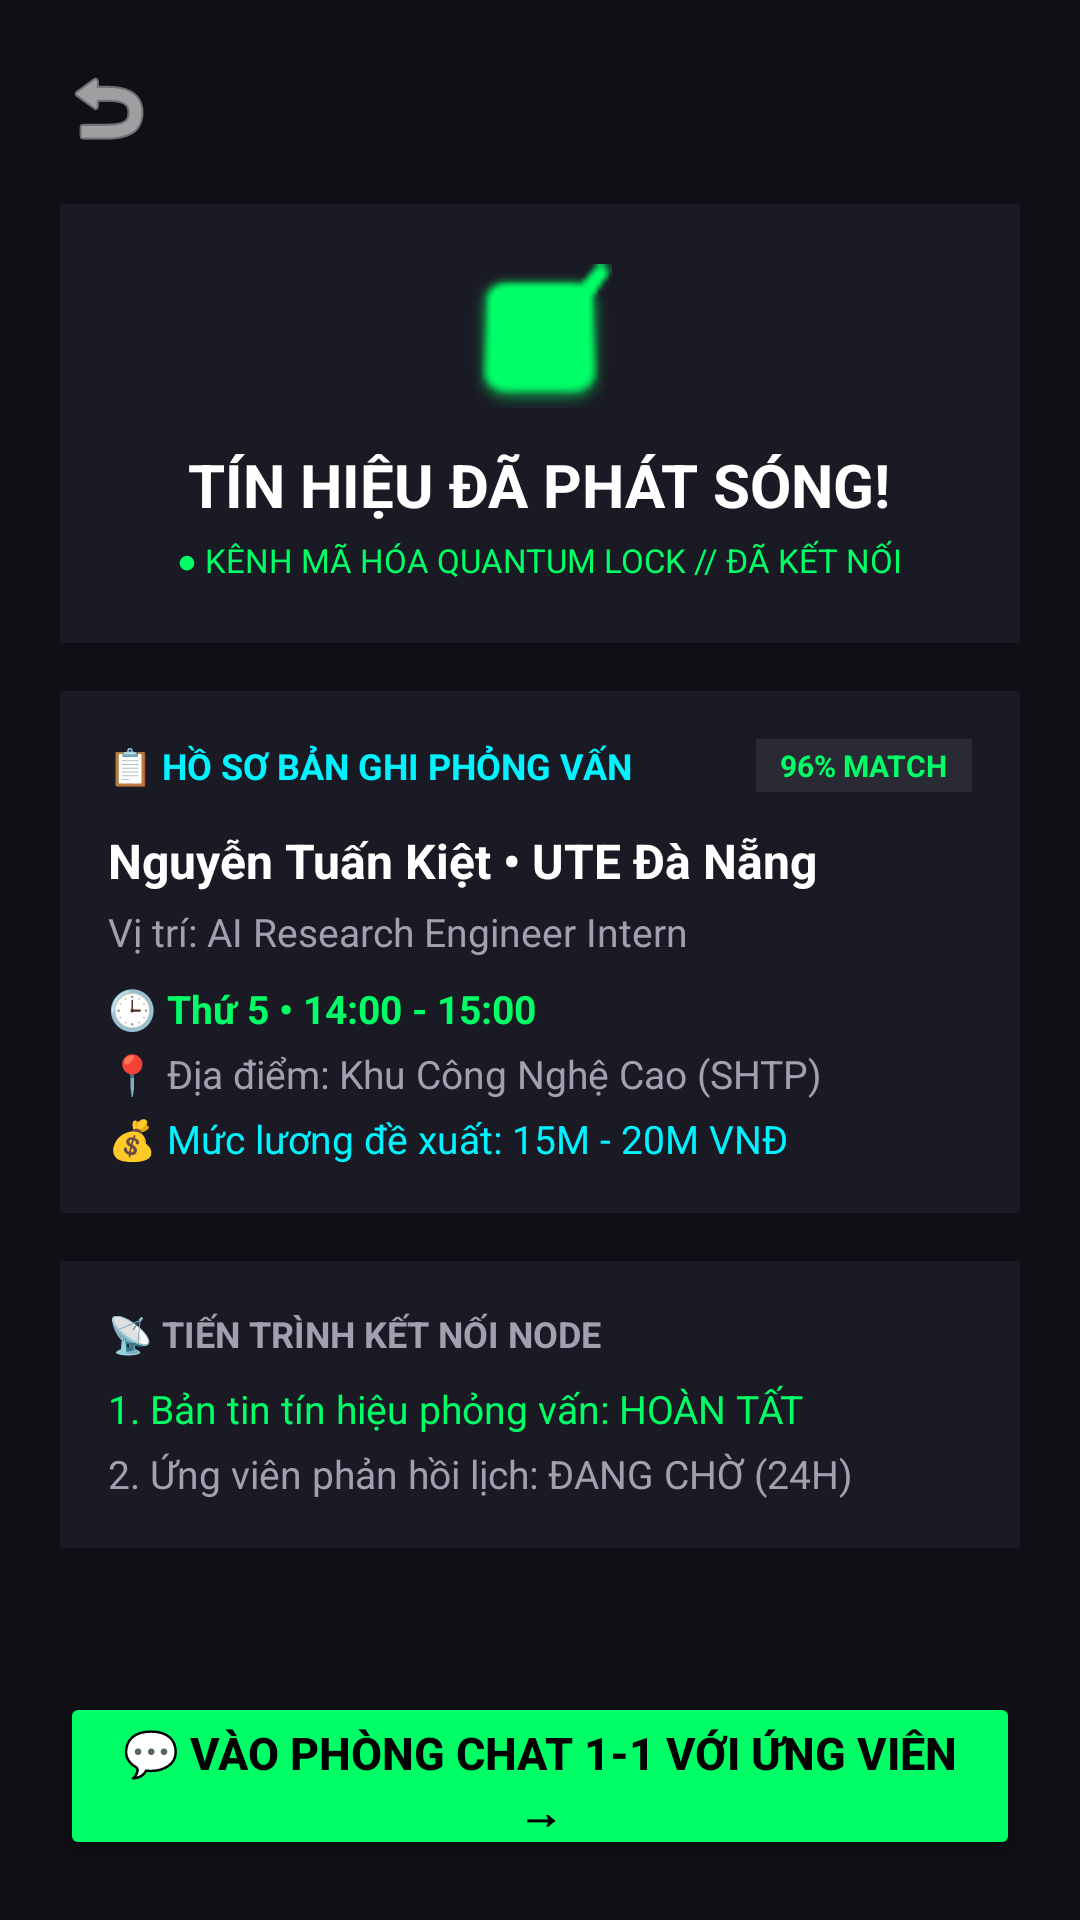

Locate icon controls on the screen. Image size 1080px x 1920px, boxes as box=[x1, y1, x2, y2].
revert: box=[75, 77, 144, 140]
